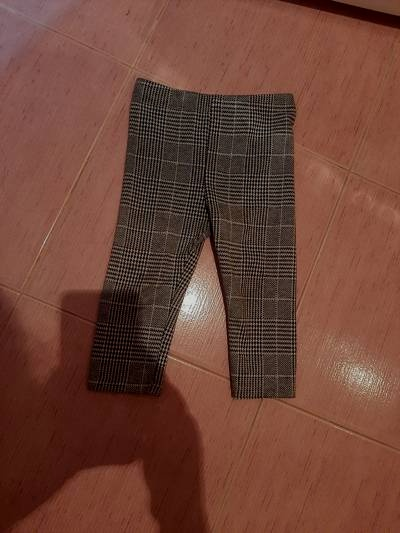Pants: (74, 61, 329, 409)
